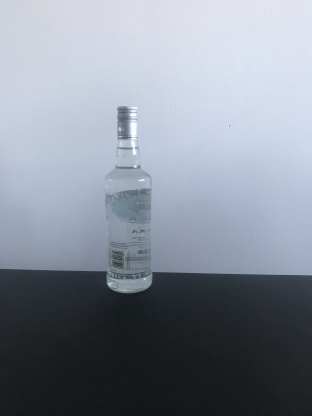nakretka: (115, 104, 139, 140)
